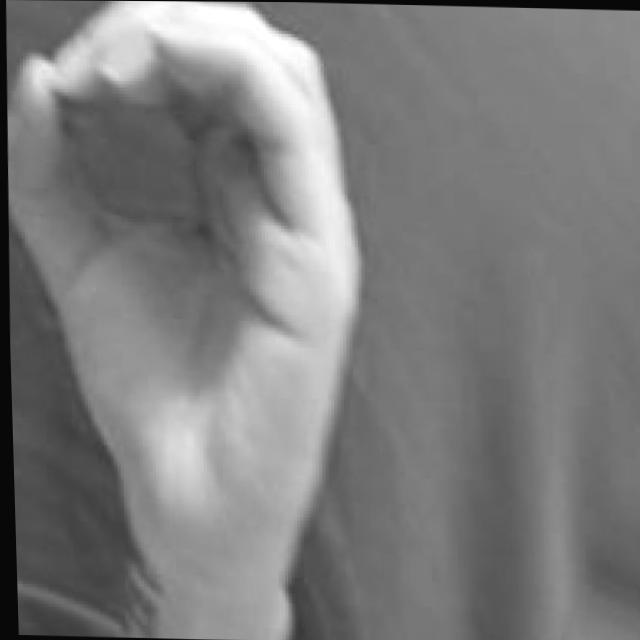O: (0, 0, 376, 541)
